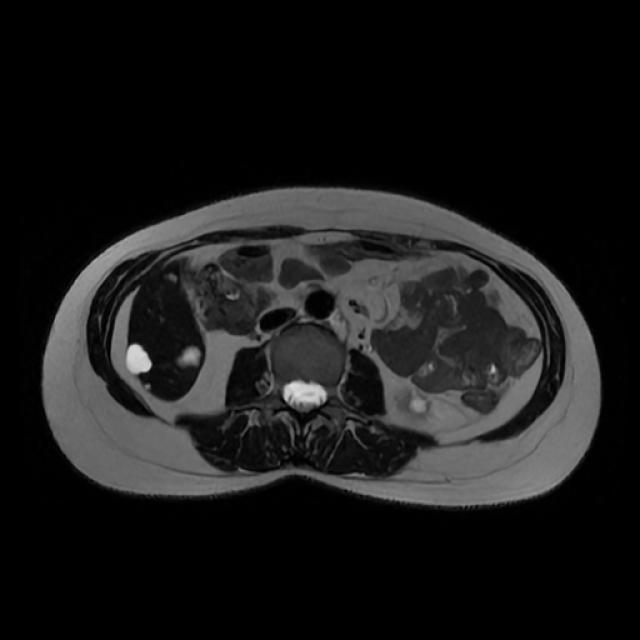sol: (399, 389, 432, 416)
